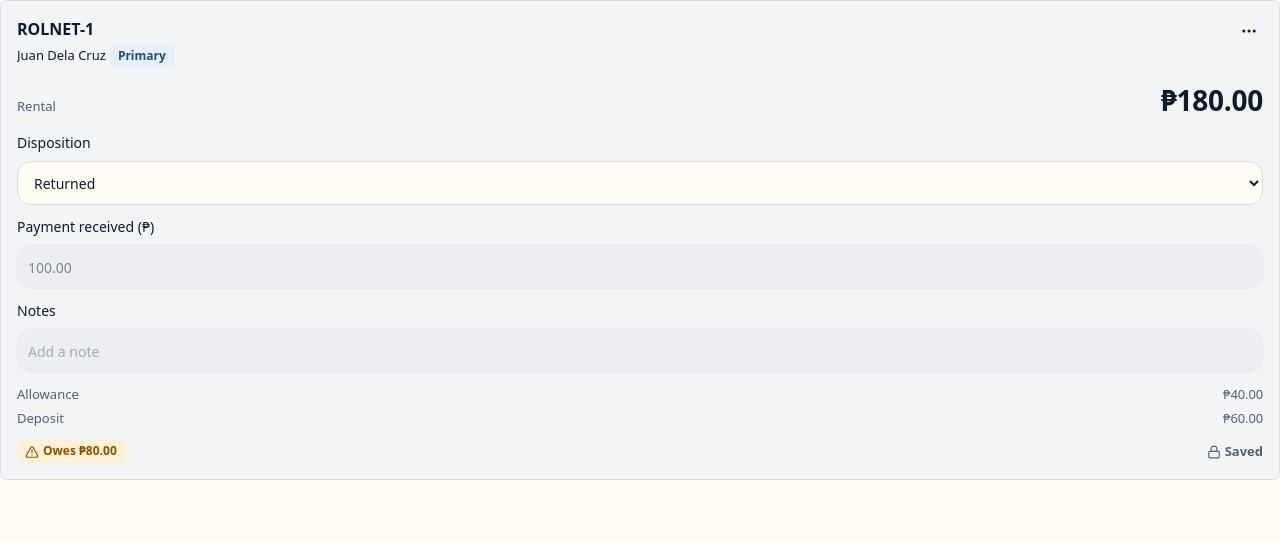
Test case: DailyCard: correcting (feature 008, User Story 2) › restores the saved values on Cancel
Click the button named "Card options": coordinates (1249, 31) [1227,9,1271,53]
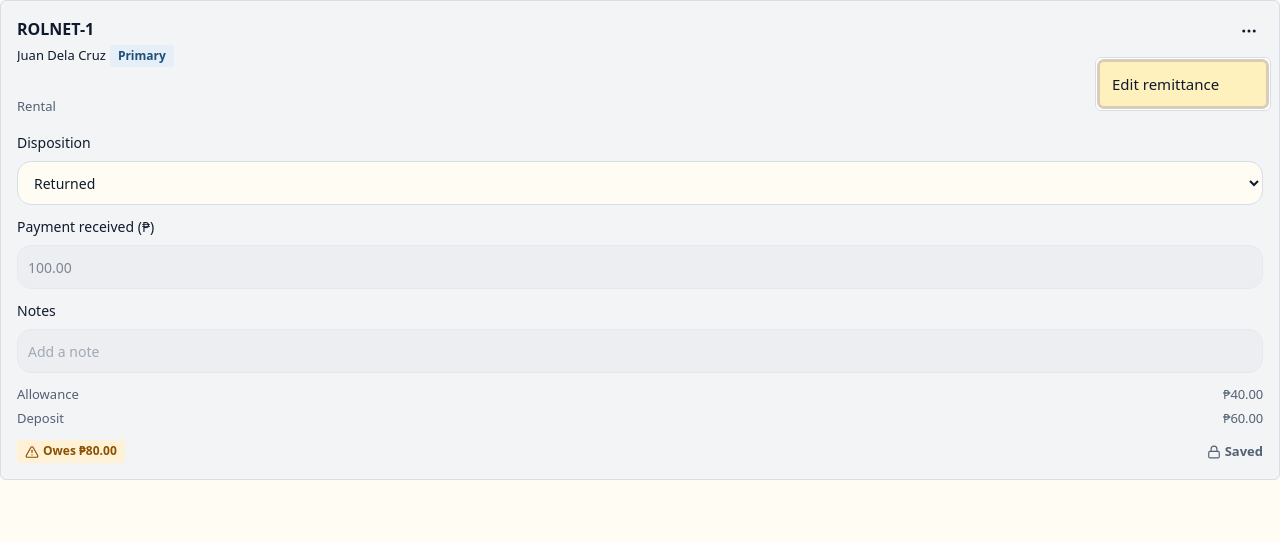
Click the menu item "Edit remittance": coordinates (1183, 84) [1100,62,1266,106]
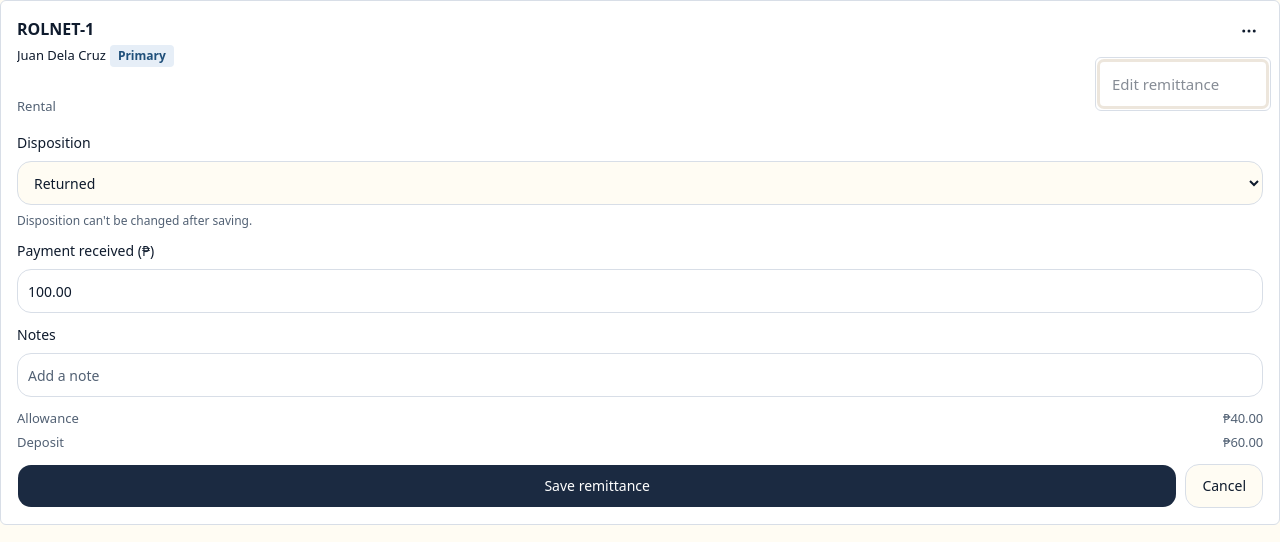
Replace the text in the field labelled "Payment received (₱)" with "150": coordinates (640, 291) [17,269,1263,313]
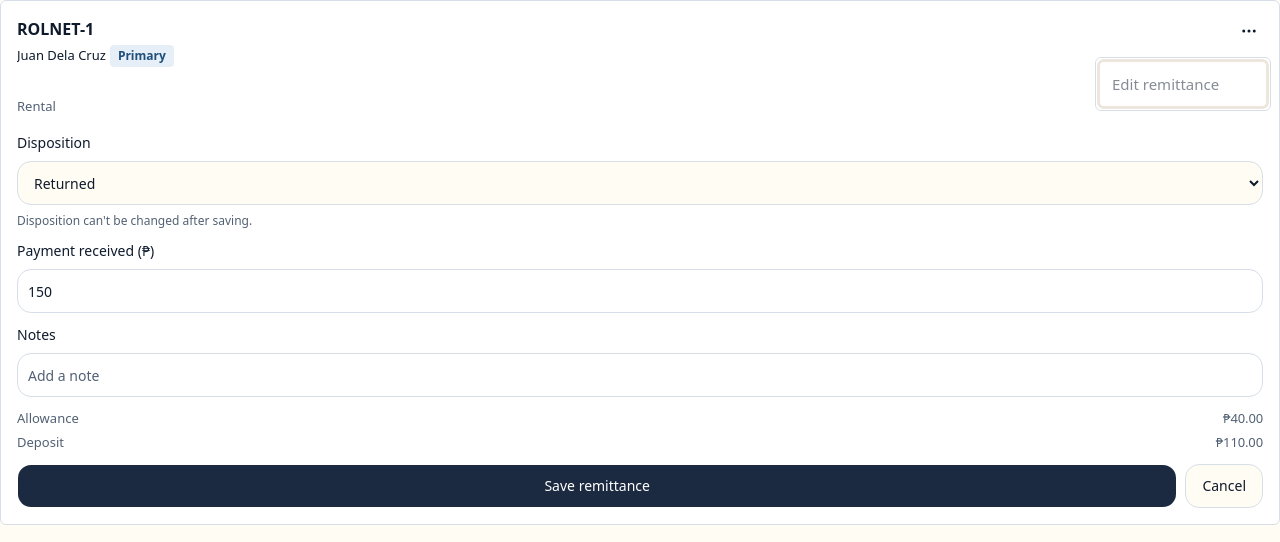
Click the button "Cancel": coordinates (1224, 486) [1185,464,1263,508]
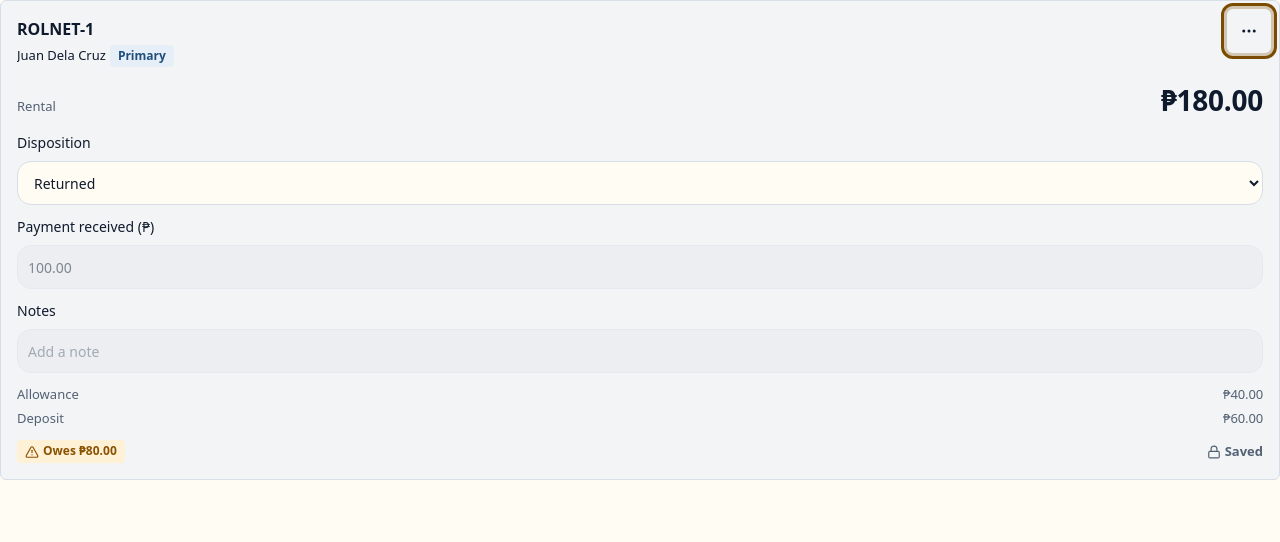
Result: the field labelled "Payment received (₱)" holds "100.00" at [17,245,1263,289]
Result: the field labelled "Payment received (₱)" is disabled at [17,245,1263,289]
